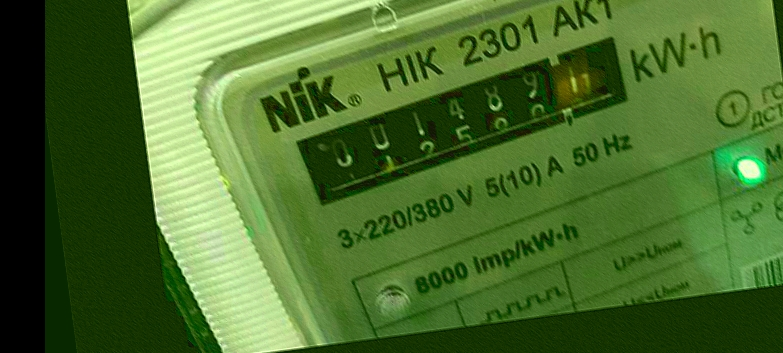0: (363, 113, 394, 152), (327, 132, 356, 170)
1: (560, 56, 584, 96), (406, 104, 430, 138)
4: (443, 89, 469, 123)
8: (481, 76, 507, 115)
9: (519, 65, 543, 99)
screen: (275, 21, 667, 220)
